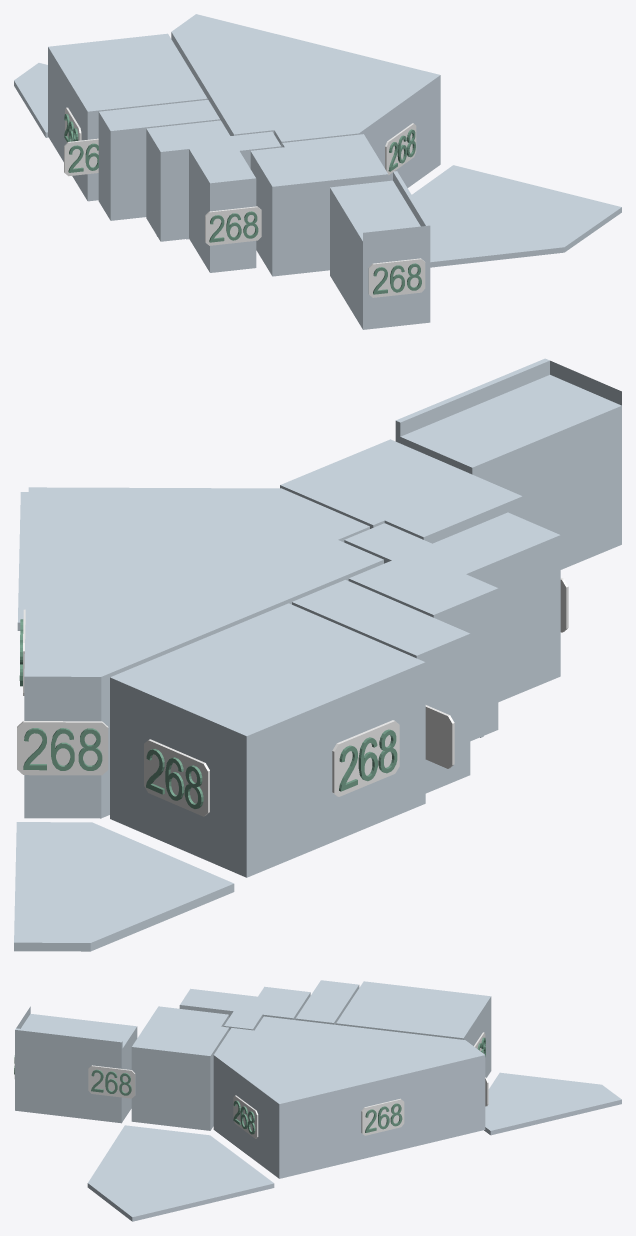
3 renders of one model, top to bottom at view 1: azimuth 30°, elevation 25°; view 2: azimuth 150°, elevation 25°; view 3: azimuth 270°, elevation 25°, orthographic. The views are drawn at different scales.
Visible parts, largest first — view 1: g_0, g_6, g_3, g_4, g_1, g_5, g_2, g_7, g_23, g_19, g_27, g_15; view 2: g_1, g_0, g_5, g_3, g_7, g_4, g_2, g_31, g_43, g_39, g_27, g_6; view 3: g_0, g_6, g_5, g_4, g_1, g_7, g_3, g_2, g_11, g_35, g_15.
Boxes of the visible parts, left/top/right/bottom form: g_0: left=171, top=14, right=440, bottom=187; g_6: left=412, top=165, right=621, bottom=267; g_3: left=146, top=120, right=281, bottom=272; g_4: left=250, top=134, right=388, bottom=276; g_1: left=48, top=33, right=207, bottom=201; g_5: left=330, top=171, right=430, bottom=329; g_2: left=98, top=100, right=220, bottom=220; g_7: left=14, top=63, right=48, bottom=137; g_23: left=368, top=258, right=425, bottom=297; g_19: left=205, top=206, right=261, bottom=245; g_27: left=64, top=138, right=98, bottom=176; g_15: left=385, top=123, right=416, bottom=175; g_1: left=110, top=603, right=425, bottom=877; g_0: left=24, top=487, right=383, bottom=818; g_5: left=395, top=358, right=621, bottom=569; g_3: left=344, top=512, right=560, bottom=741; g_7: left=14, top=822, right=234, bottom=951; g_4: left=280, top=439, right=522, bottom=543; g_2: left=292, top=580, right=470, bottom=793; g_31: left=17, top=721, right=108, bottom=775; g_43: left=332, top=720, right=399, bottom=796; g_39: left=144, top=739, right=209, bottom=816; g_27: left=425, top=705, right=454, bottom=768; g_6: left=17, top=492, right=28, bottom=630; g_0: left=213, top=1016, right=485, bottom=1178; g_6: left=87, top=1125, right=274, bottom=1221; g_5: left=15, top=1006, right=137, bottom=1123; g_4: left=131, top=1006, right=229, bottom=1130; g_1: left=336, top=981, right=491, bottom=1077; g_7: left=484, top=1072, right=621, bottom=1135; g_3: left=179, top=986, right=310, bottom=1030; g_2: left=295, top=980, right=359, bottom=1024; g_11: left=88, top=1065, right=135, bottom=1098; g_35: left=361, top=1098, right=404, bottom=1135; g_15: left=233, top=1095, right=258, bottom=1138.
Bounding box in the file's own units: 12.11 × 2.85 × 18.39.
